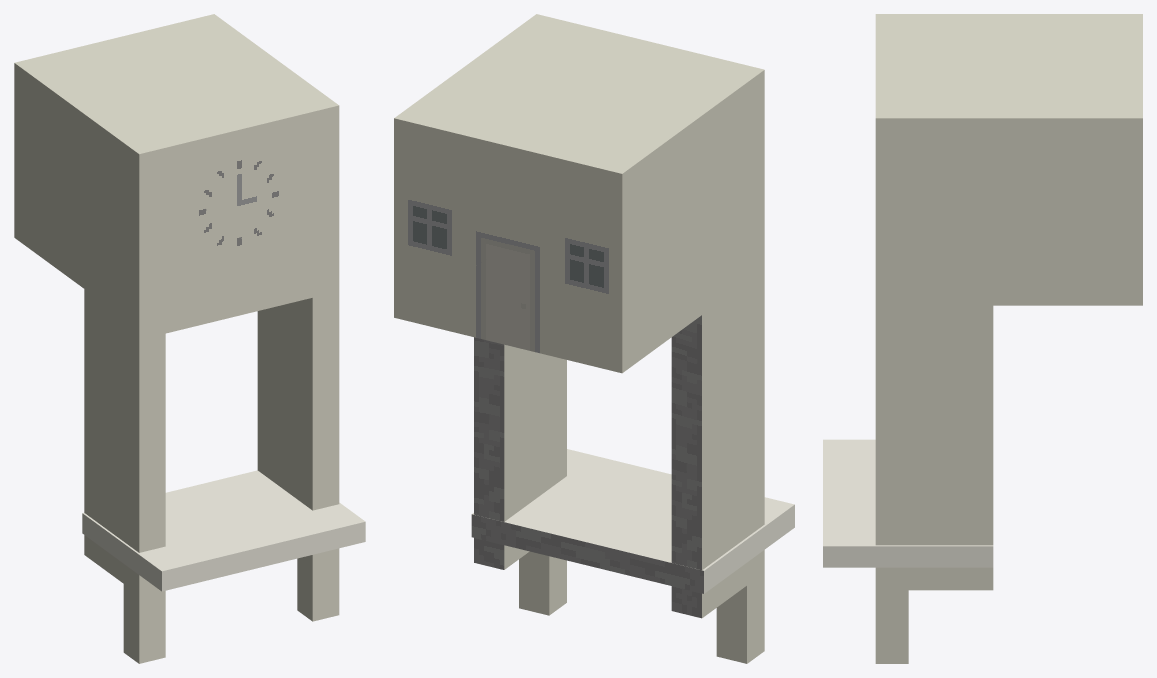
The model's file is 02c0_School_Clocktower.glb.
The picture shows the model from 3 angles, left to right: view 1: azimuth 30°, elevation 25°; view 2: azimuth 150°, elevation 25°; view 3: azimuth 270°, elevation 25°; orthographic projection. The views are drawn at different scales.
Parts seen in each view (by area): view 1: part_0; view 2: part_0; view 3: part_0.
Boxes of the visible parts, <box> form: part_0: <box>14,14,365,663</box>; part_0: <box>394,14,794,663</box>; part_0: <box>823,14,1142,663</box>.
Bounding box in the file's own units: 5.54 × 13.25 × 7.04.
Materials: 1 (1 with a texture image).
